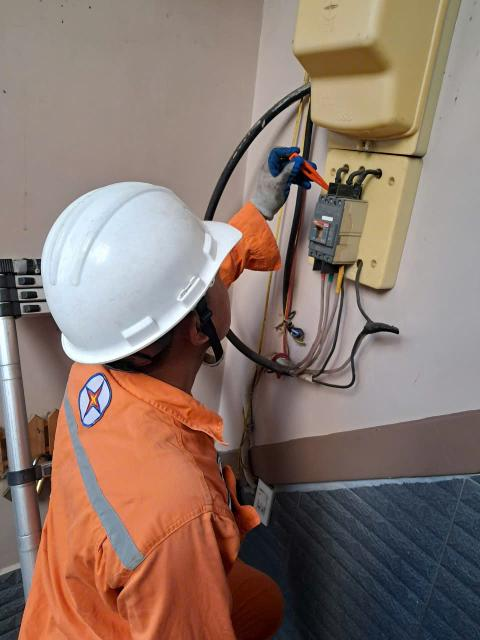gloves: (248, 140, 318, 218)
helmet: (29, 181, 238, 361)
